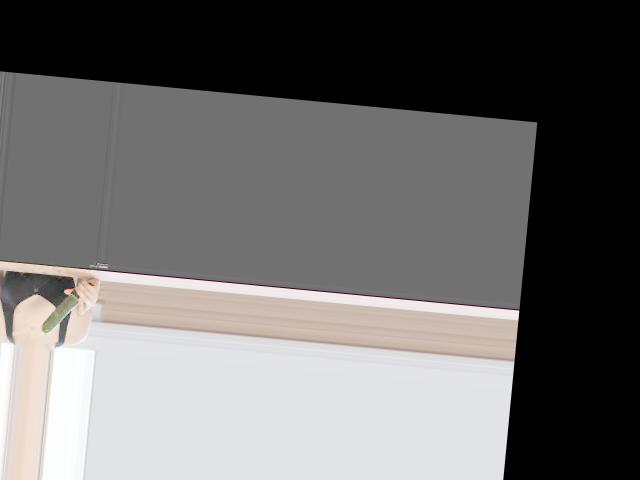cucumber: (40, 277, 94, 339)
